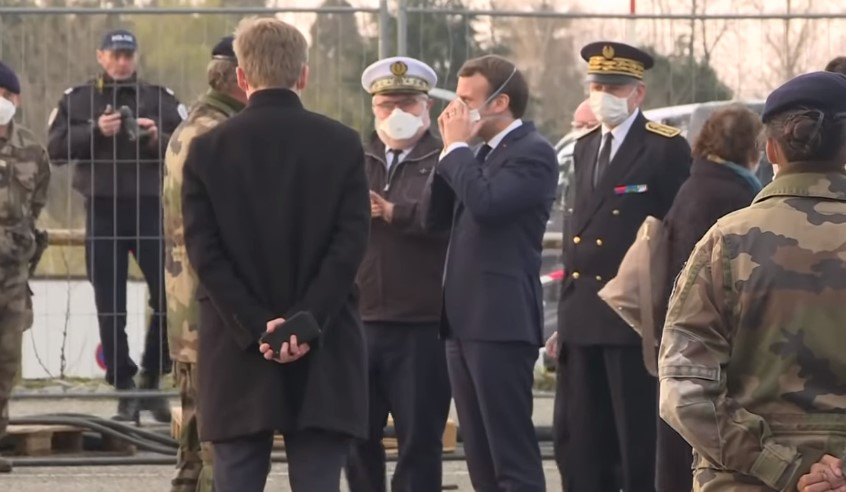face_with_mask: (580, 41, 655, 127), (361, 58, 434, 143), (451, 57, 525, 134)
